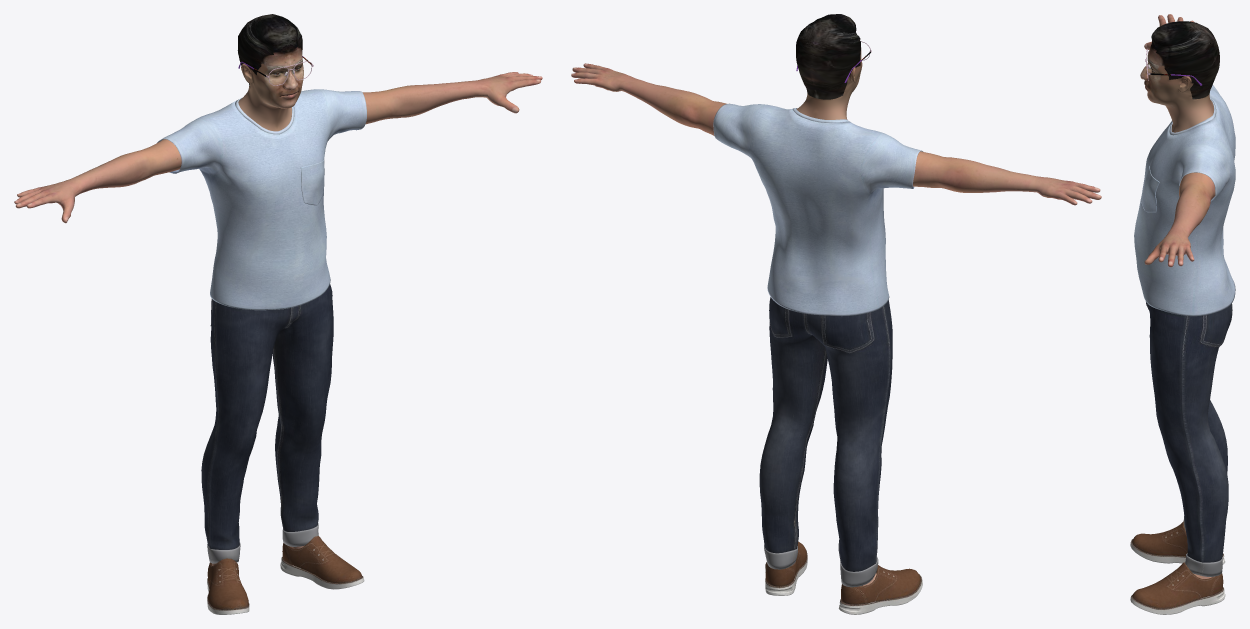
The model's file is chasma_2.fbx.
The picture shows the model from 3 angles, left to right: view 1: azimuth 30°, elevation 25°; view 2: azimuth 150°, elevation 25°; view 3: azimuth 270°, elevation 25°; orthographic projection. The views are drawn at different scales.
Visible parts, largest first — view 1: outfit, AvatarBody, C_1; view 2: outfit, AvatarBody, C_1; view 3: outfit, C_1, AvatarBody, C_1-chasma.
Part boxes in pixels (x1,y1,x2,y2): outfit: (157,89,366,614); AvatarBody: (14,72,542,565); C_1: (237,14,303,131); outfit: (713,103,923,614); AvatarBody: (571,63,1101,585); C_1: (796,14,862,119); outfit: (1130,85,1235,614); C_1: (1140,21,1219,132); AvatarBody: (1144,14,1215,578); C_1-chasma: (1145,48,1201,85).
Size of the model in its own units: 176 by 182 by 31.3.
Materials: 16 (7 with a texture image).
